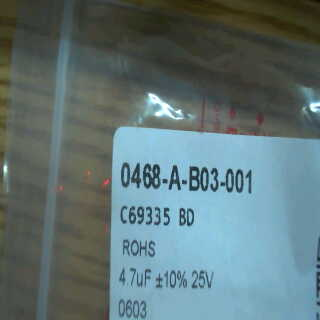4.7uF: (115, 267, 156, 291)
